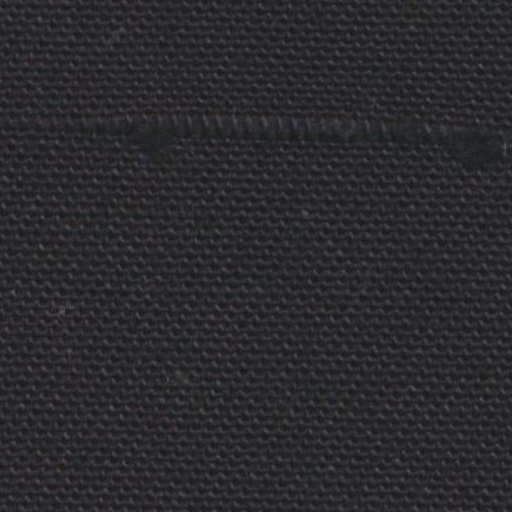DaiSha: (45, 90, 424, 150)
